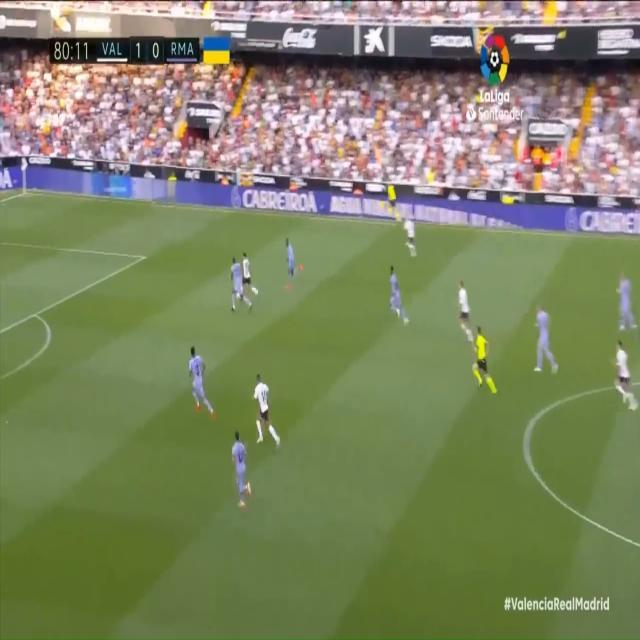ball: (237, 292, 242, 302)
player: (252, 372, 280, 448), (532, 303, 559, 379), (189, 343, 216, 416), (231, 430, 253, 513), (615, 338, 635, 418), (228, 252, 254, 313), (615, 267, 637, 337), (388, 260, 408, 329), (457, 277, 475, 344), (283, 236, 302, 283), (404, 204, 419, 261), (241, 252, 259, 295)
referee: (471, 322, 499, 400), (386, 178, 403, 225)
